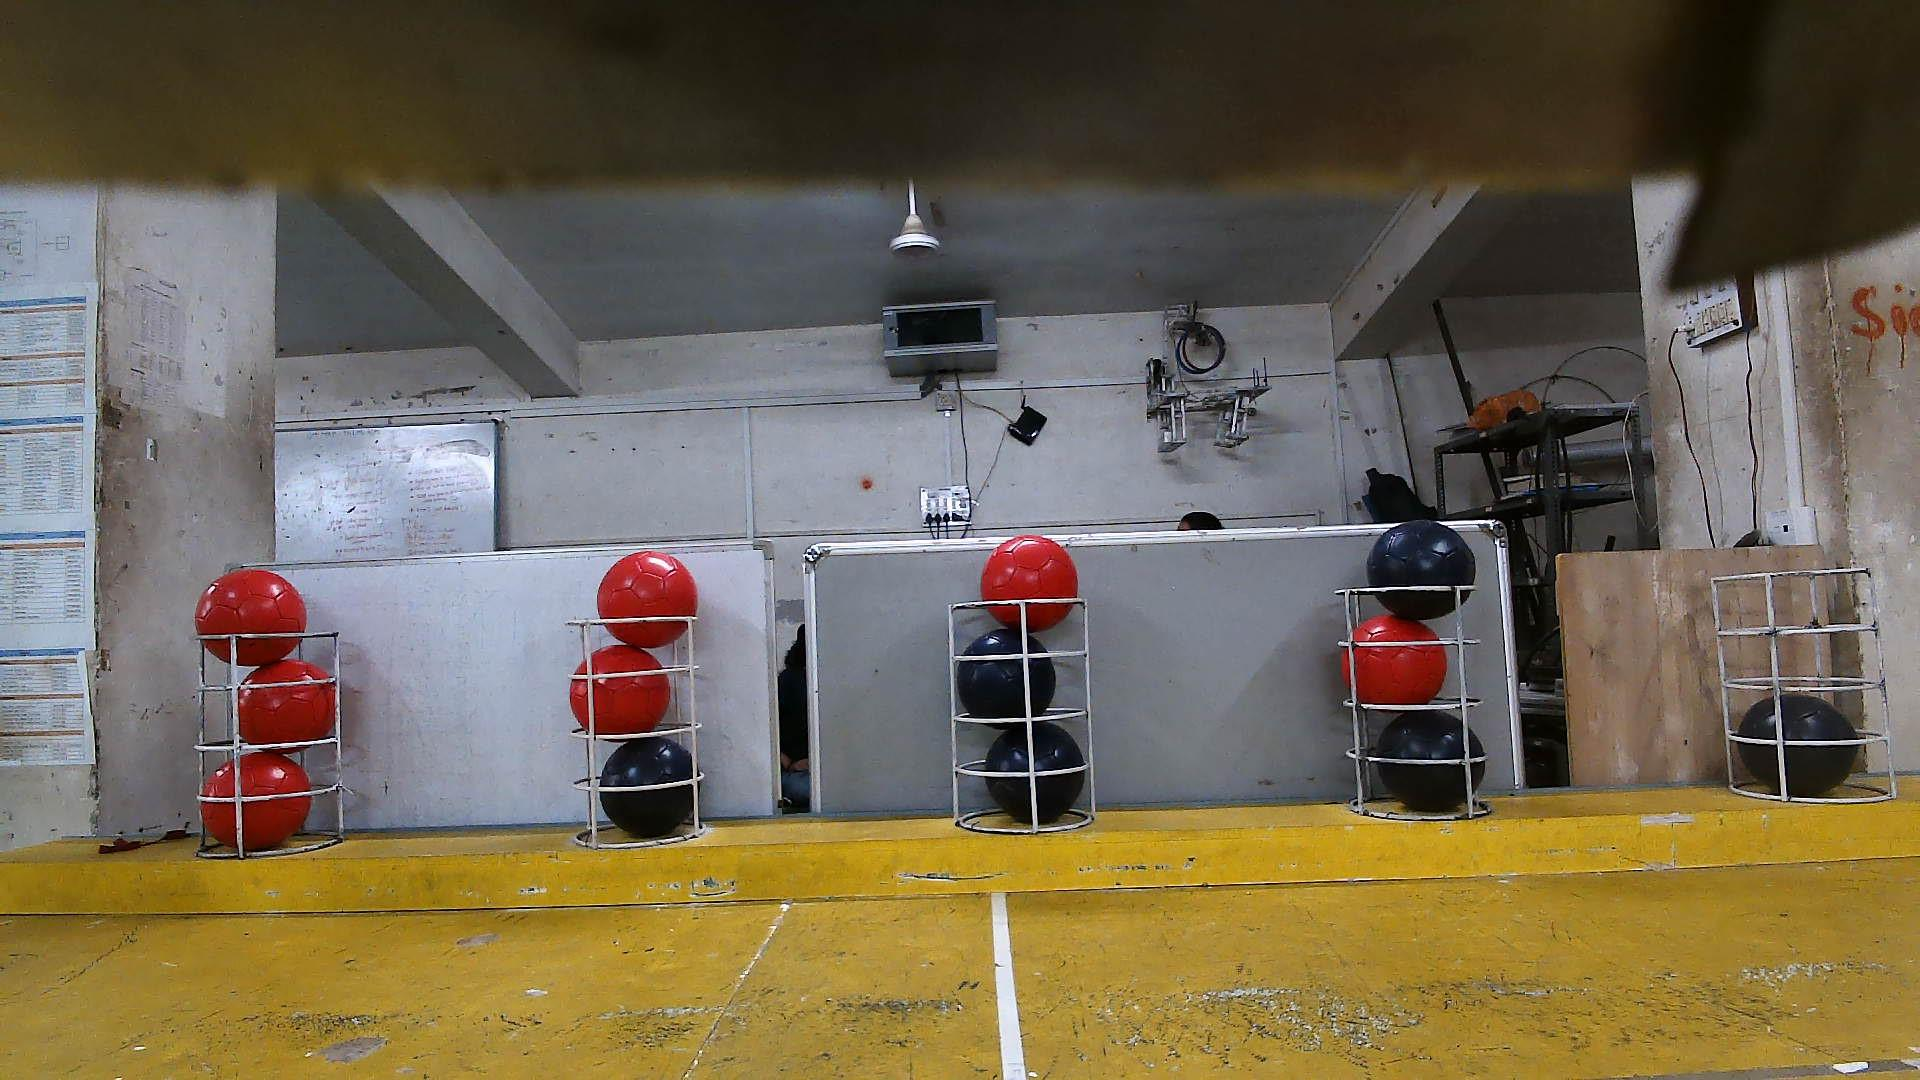dhoka: (1737, 694, 1862, 796), (1377, 709, 1486, 812), (1366, 520, 1476, 620), (600, 737, 702, 837), (985, 721, 1085, 823), (957, 629, 1056, 732)
laale: (200, 753, 313, 851), (195, 570, 306, 666), (1342, 615, 1445, 713), (596, 551, 698, 649), (568, 645, 671, 735), (982, 537, 1080, 630), (236, 661, 338, 746)
